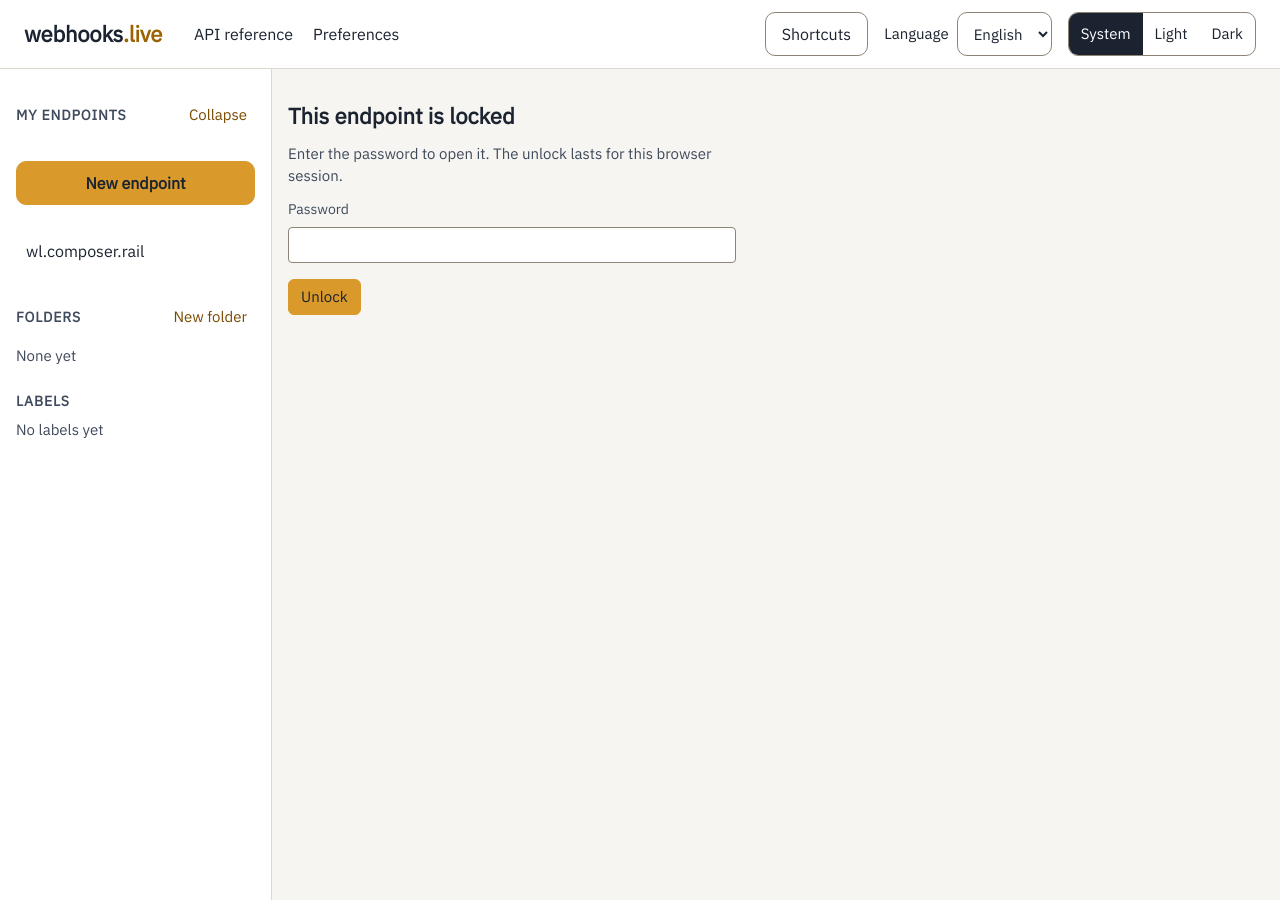
unlock page › shows a neutral error for a wrong password, clears the field, and returns focus to it
This screenshot has width=1280, height=900.
Type "wrong-guess" into the password field labelled "Password" at (512, 245), box [288,227,736,263]
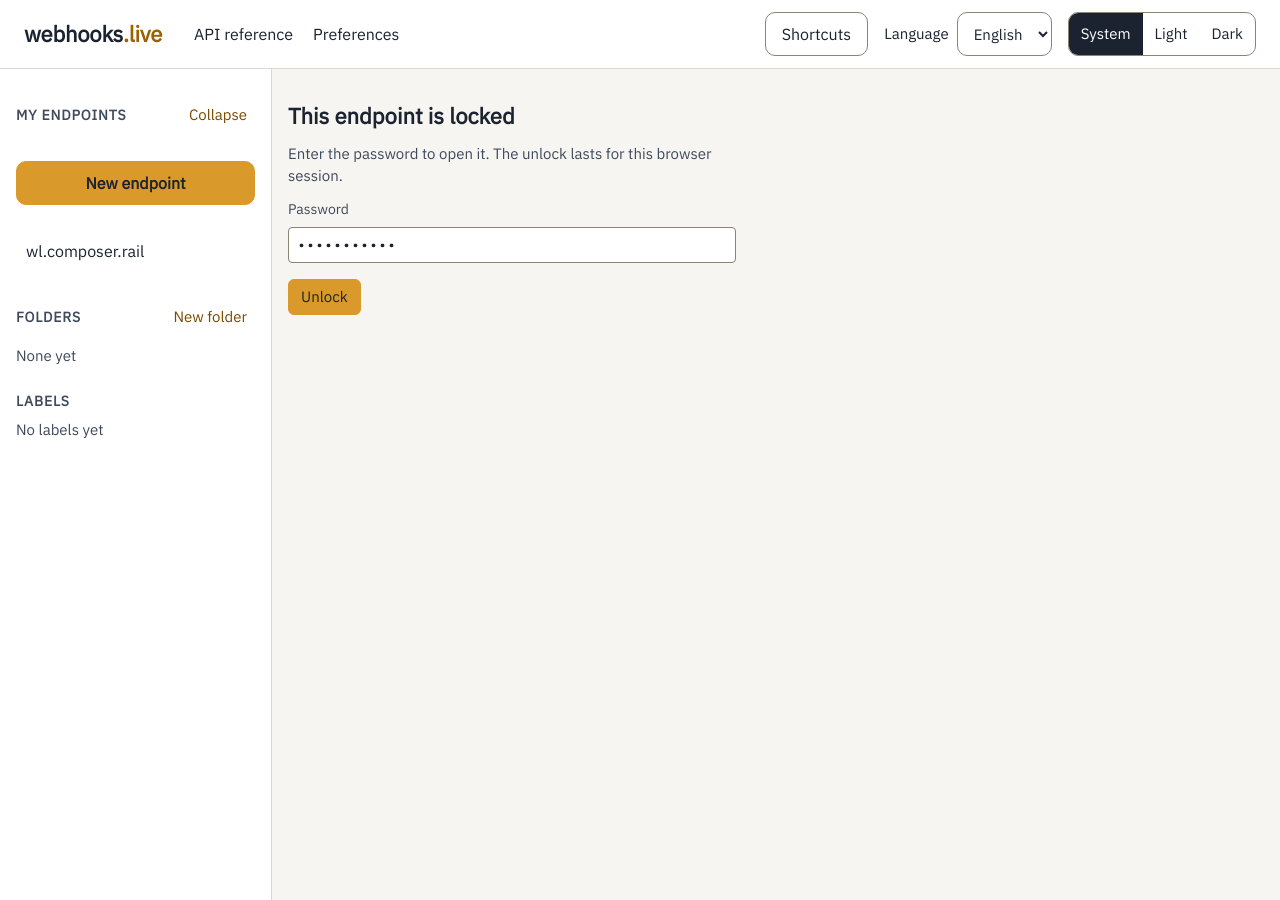
Click the button "Unlock" at (324, 297), box [288,279,361,315]
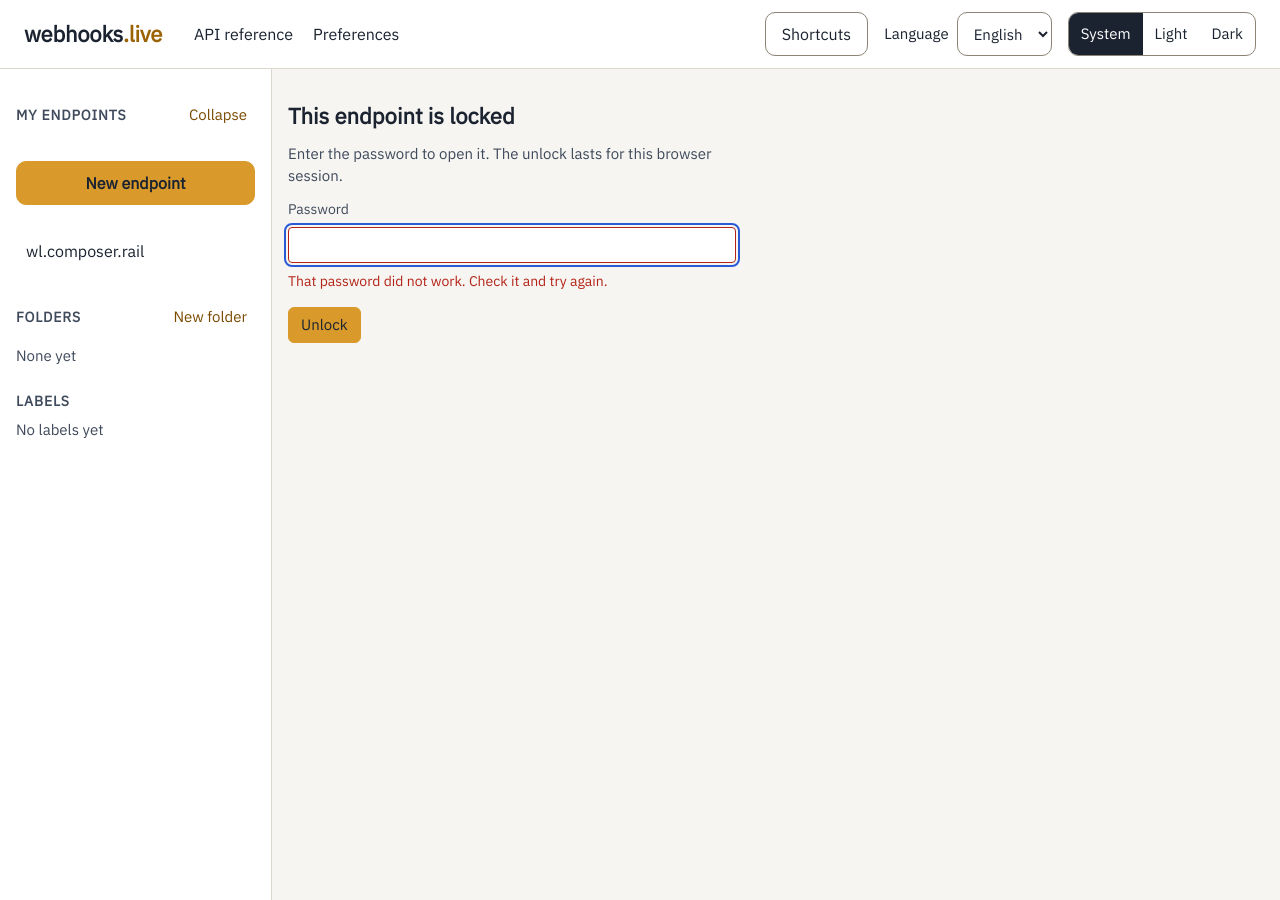
Result: the message reads "That password did not work. Check it and try again." at [288,272,608,290]
Result: the password field labelled "Password" is empty at [288,227,736,263]
